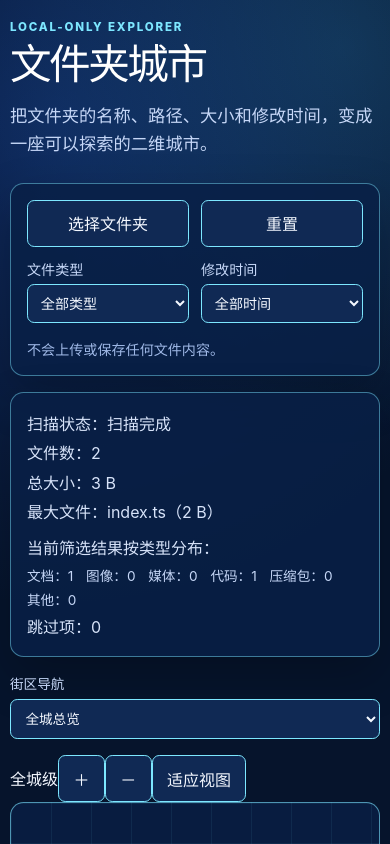
keeps district navigation usable on mobile
This screenshot has width=390, height=844.
Select "代码街区 · src · 深度 1（1）" in the dropdown labelled "街区导航" at coordinates (195, 719), box top-left (10, 699), bottom-right (380, 740)
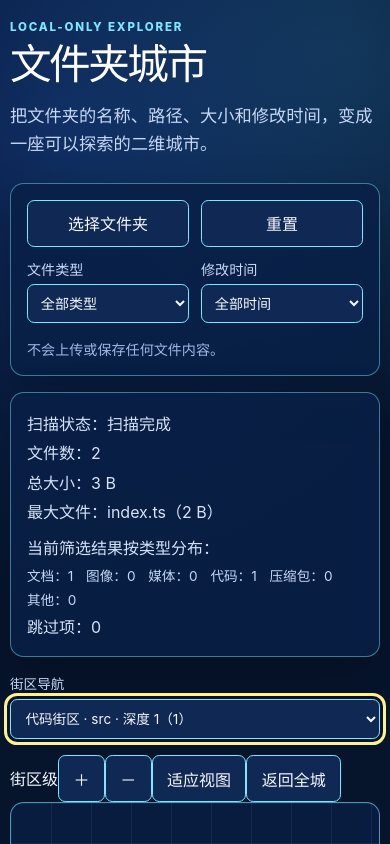
Result: the navigation bar named "城市地图控制" shows "街区级" at top-left (10, 770), bottom-right (58, 790)
Select "全城总览" in the dropdown labelled "街区导航" at coordinates (195, 719), box top-left (10, 699), bottom-right (380, 740)
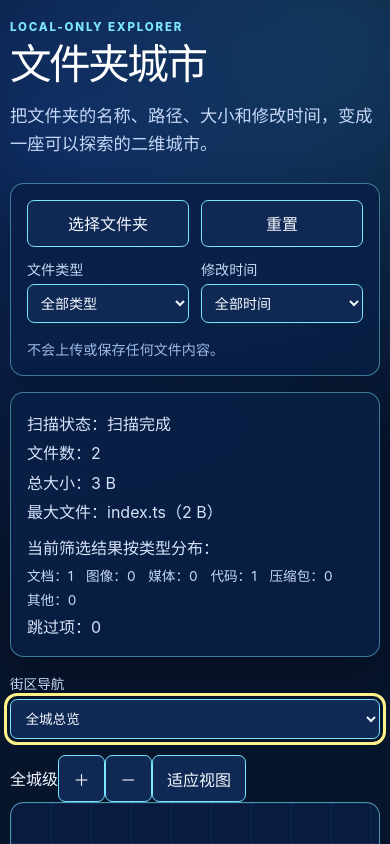
Result: the navigation bar named "城市地图控制" shows "全城级" at top-left (10, 770), bottom-right (58, 790)
